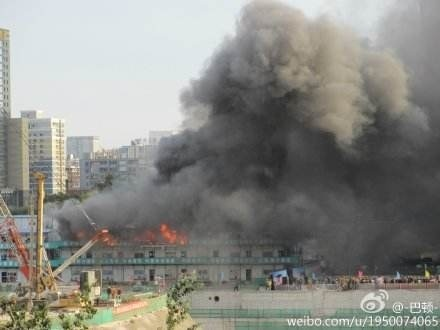fire: (91, 220, 194, 247)
